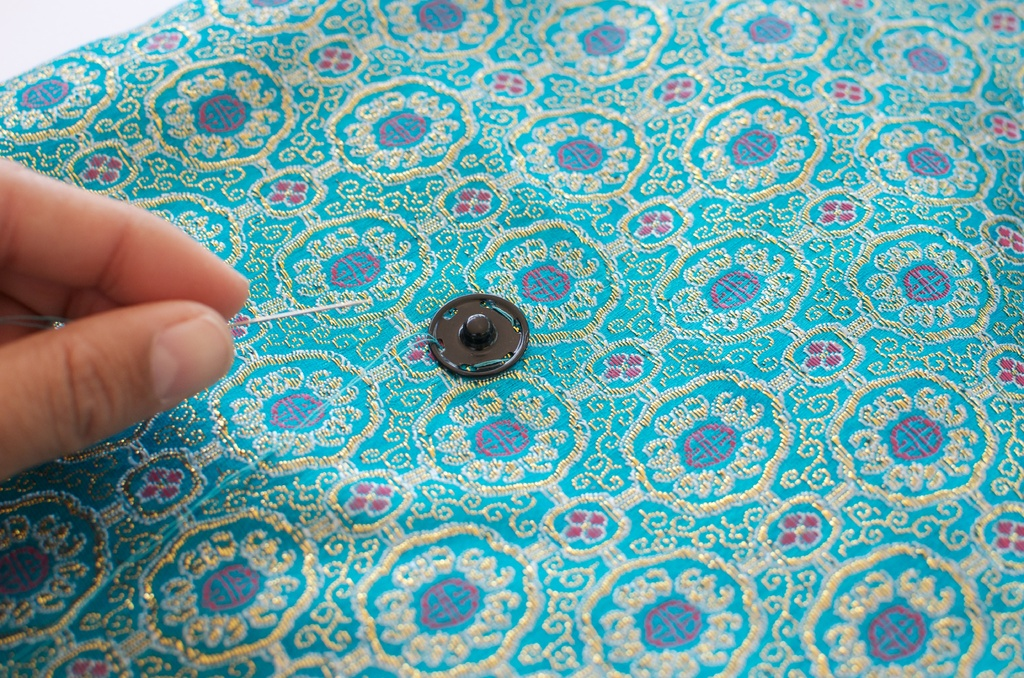person: (0, 152, 254, 501)
